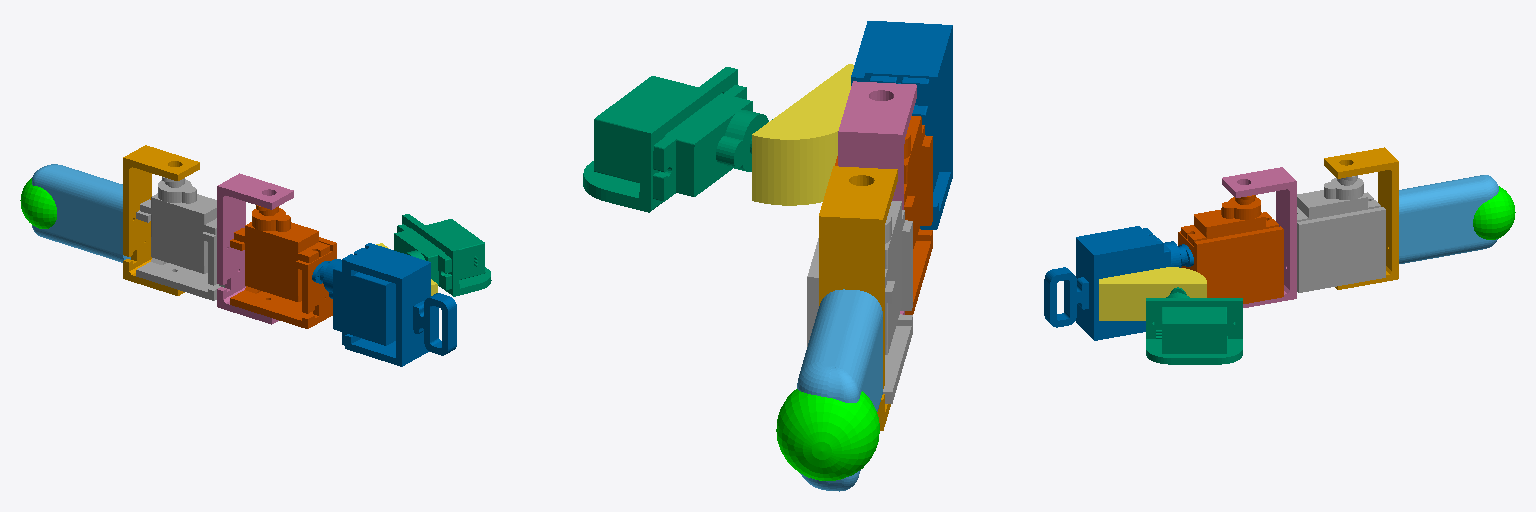
The robot description file, URDF, robot "robot":
<?xml version="1.0"?>
<robot name="">

  <link name="world"/>
  <link name="base_link">
    <!--
    <visual>
      <origin rpy="0 0 0" xyz="0 0 -0.01"/>
      <geometry>
        <cylinder length="0.01" radius="0.05"/>
      </geometry>
    </visual>
    -->
  </link>

  <link name="finger_root">
    <visual>
      <origin rpy="0 0 0" xyz="0 0 0"/>
      <geometry>
        <mesh filename="package://taltosoid_hardware/description/meshes/finger_root.stl" scale="0.001 0.001 0.001"/>
      </geometry>
    </visual>
    <collision>
      <origin rpy="0 0 0" xyz="0 0 0"/>
      <geometry>
        <mesh filename="package://taltosoid_hardware/description/meshes/finger_root.stl" scale="0.001 0.001 0.001"/>
      </geometry>
    </collision>
  </link>

  <link name="base_spacer">
    <visual>
      <origin rpy="-1.57 1.57 0" xyz="0 -0.007 0.0275"/>
      <geometry>
        <mesh filename="package://taltosoid_hardware/description/meshes/base_spacer.stl" scale="0.001 0.001 0.001"/>
      </geometry>
    </visual>
    <collision>
      <origin rpy="0 0 0" xyz="0 0 0"/>
      <geometry>
        <mesh filename="package://taltosoid_hardware/description/meshes/base_spacer.stl" scale="0.001 0.001 0.001"/>
      </geometry>
    </collision>
  </link>

  <link name="rotation_root">
    <visual>
      <origin rpy="0 -1.57 -3.14" xyz="0 0 0.001"/>
      <geometry>
        <mesh filename="package://taltosoid_hardware/description/meshes/rotation_root.stl" scale="0.001 0.001 0.001"/>
      </geometry>
    </visual>
    <collision>
      <origin rpy="0 -1.57 -3.14" xyz="0 0 0.001"/>
      <geometry>
        <mesh filename="package://taltosoid_hardware/description/meshes/rotation_root.stl" scale="0.001 0.001 0.001"/>
      </geometry>
    </collision>
  </link>

  <link name="finger_segment_1">
    <visual>
      <origin rpy="-1.57 0 1.57" xyz="0 0.001 0"/>
      <geometry>
        <mesh filename="package://taltosoid_hardware/description/meshes/finger_segment.stl" scale="0.001 0.001 0.001"/>
      </geometry>
    </visual>
    <collision>
      <origin rpy="-1.57 0 1.57" xyz="0 0.001 0"/>
      <geometry>
        <mesh filename="package://taltosoid_hardware/description/meshes/finger_segment.stl" scale="0.001 0.001 0.001"/>
      </geometry>
    </collision>
  </link>

  <link name="finger_hinge_1">
    <visual>
      <origin rpy="-1.57 0 1.57" xyz="0 0.001 -0.0055"/>
      <geometry>
        <mesh filename="package://taltosoid_hardware/description/meshes/finger_hinge.stl" scale="0.001 0.001 0.001"/>
      </geometry>
    </visual>
    <collision>
      <origin rpy="-1.57 0 1.57" xyz="0 0.001 -0.0055"/>
      <geometry>
        <mesh filename="package://taltosoid_hardware/description/meshes/finger_hinge.stl" scale="0.001 0.001 0.001"/>
      </geometry>
    </collision>
  </link>

  <link name="finger_segment_2">
    <visual>
      <origin rpy="-1.57 0 1.57" xyz="0 0.001 0"/>
      <geometry>
        <mesh filename="package://taltosoid_hardware/description/meshes/finger_segment.stl" scale="0.001 0.001 0.001"/>
      </geometry>
    </visual>
    <collision>
      <origin rpy="-1.57 0 1.57" xyz="0 0.001 0"/>
      <geometry>
        <mesh filename="package://taltosoid_hardware/description/meshes/finger_segment.stl" scale="0.001 0.001 0.001"/>
      </geometry>
    </collision>
  </link>

  <link name="finger_hinge_2">
    <visual>
      <origin rpy="-1.57 0 1.57" xyz="0 0.001 -0.0055"/>
      <geometry>
        <mesh filename="package://taltosoid_hardware/description/meshes/finger_hinge.stl" scale="0.001 0.001 0.001"/>
      </geometry>
    </visual>
    <collision>
      <origin rpy="-1.57 0 1.57" xyz="0 0.001 -0.0055"/>
      <geometry>
        <mesh filename="package://taltosoid_hardware/description/meshes/finger_hinge.stl" scale="0.001 0.001 0.001"/>
      </geometry>
    </collision>
  </link>

  <link name="finger_tip">
    <visual>
      <origin rpy="-1.57 0 1.57" xyz="0 0.001 -0.0055"/>
      <geometry>
        <mesh filename="package://taltosoid_hardware/description/meshes/finger_tip.stl" scale="0.001 0.001 0.001"/>
      </geometry>
    </visual>
    <collision>
      <origin rpy="-1.57 0 1.57" xyz="0 0.001 -0.0055"/>
      <geometry>
        <mesh filename="package://taltosoid_hardware/description/meshes/finger_tip.stl" scale="0.001 0.001 0.001"/>
      </geometry>
    </collision>
  </link>

  <link name="ee_target">
    <visual>
      <origin rpy="0 0 0" xyz="0 0 -0.015"/>
      <geometry>
         <sphere radius="0.01"/>
      </geometry>
      <material name="green">
            <color rgba="0 1 0 0.33"/>
      </material>
    </visual>
  </link>


  <joint name="world_to_base_link" type="fixed">
    <parent link="world"/>
    <child link="base_link"/>
    <origin xyz="0 0 0"/>
  </joint>

  <joint name="base_link_to_finger_root" type="fixed">
    <parent link="base_link"/>
    <child link="finger_root"/>
    <origin xyz="0 0 0"/>
  </joint>

  <joint name="finger_root_to_base_spacer" type="revolute">
    <parent link="finger_root"/>
    <child link="base_spacer"/>

    <axis xyz="1 0 0"/>
    <limit effort="1000.0" lower="-1.57" upper="1.57" velocity="0.5"/>
    <origin rpy="1.57 0 0" xyz="-0.017 -0.00565 -0.00035"/>
  </joint>


  <joint name="base_spacer_to_rotation_root" type="fixed">
    <parent link="base_spacer"/>
    <child link="rotation_root"/>
    <origin rpy="0 0.4 0" xyz="-0.016 0 0.02"/>
  </joint>

  <joint name="rotation_root_to_finger_segment_1" type="revolute">
    <parent link="rotation_root"/>
    <child link="finger_segment_1"/>

    <axis xyz="0 0 1"/>
    <limit effort="1000.0" lower="-1.57" upper="1.57" velocity="0.5"/>
    <origin rpy="0 0 0" xyz="-0.001 0.0055 -0.042"/>
  </joint>

  <joint name="finger_segment_1_to_finger_hinge_1" type="revolute">
    <parent link="finger_segment_1"/>
    <child link="finger_hinge_1"/>

    <axis xyz="0 1 0"/>
    <limit effort="1000.0" lower="-1.57" upper="1.57" velocity="0.5"/>
    <origin rpy="0 0 0" xyz="-0.001 0 -0.0055"/>
  </joint>

  <joint name="finger_hinge_1_to_finger_segment_2" type="fixed">
    <parent link="finger_hinge_1"/>
    <child link="finger_segment_2"/>
    <origin xyz="0 0 -0.0333"/>
  </joint>

  <joint name="finger_segment_2_to_finger_hinge_2" type="revolute">
    <parent link="finger_segment_2"/>
    <child link="finger_hinge_2"/>

    <axis xyz="0 1 0"/>
    <limit effort="1000.0" lower="-1.57" upper="1.57" velocity="0.5"/>
    <origin rpy="0 0 0" xyz="-0.001 0 -0.0055"/>
  </joint>

  <joint name="finger_hinge_2_to_finger_tip" type="fixed">
    <parent link="finger_hinge_2"/>
    <child link="finger_tip"/>
    <origin xyz="0 -0.011 -0.0315"/>
  </joint>

  <joint name="finger_tip_to_ee_target" type="fixed">
    <parent link="finger_tip"/>
    <child link="ee_target"/>
    <origin xyz="0 0.006 -0.006"/>
  </joint>

</robot>

--- Render facts (derived) ---
The picture shows the robot from 3 angles, left to right: view 1: azimuth 30°, elevation 25°; view 2: azimuth 150°, elevation 25°; view 3: azimuth 270°, elevation 25°; orthographic projection.
Robot: robot — 11 links, 10 joints (4 revolute, 6 fixed); root link world; default pose: all joints at 0.
Links seen in each view (by area): view 1: rotation_root, finger_segment_1, finger_segment_2, finger_tip, finger_root, finger_hinge_2, finger_hinge_1, ee_target; view 2: finger_root, rotation_root, finger_hinge_2, base_spacer, finger_tip, ee_target, finger_hinge_1, finger_segment_2, finger_segment_1; view 3: finger_segment_2, finger_segment_1, rotation_root, finger_root, finger_tip, base_spacer, finger_hinge_2, finger_hinge_1, ee_target.
Link boxes in pixels (x1,y1,x2,y2): rotation_root: (312, 243, 456, 366); finger_segment_1: (230, 205, 336, 328); finger_segment_2: (136, 177, 224, 300); finger_tip: (32, 164, 130, 262); finger_root: (394, 214, 491, 296); finger_hinge_2: (123, 145, 199, 295); finger_hinge_1: (217, 173, 293, 324); ee_target: (20, 178, 56, 228); finger_root: (583, 67, 772, 212); rotation_root: (851, 21, 952, 229); finger_hinge_2: (819, 166, 897, 430); base_spacer: (752, 64, 853, 205); finger_tip: (797, 289, 882, 491); ee_target: (776, 389, 879, 480); finger_hinge_1: (838, 81, 916, 314); finger_segment_2: (807, 201, 912, 403); finger_segment_1: (835, 116, 932, 314); finger_segment_2: (1297, 175, 1385, 292); finger_segment_1: (1178, 195, 1283, 303); rotation_root: (1044, 226, 1193, 340); finger_root: (1146, 287, 1242, 364); finger_tip: (1399, 175, 1498, 263); base_spacer: (1099, 267, 1206, 320); finger_hinge_2: (1324, 147, 1398, 289); finger_hinge_1: (1222, 167, 1296, 307); ee_target: (1473, 186, 1515, 239).
Size in the robot's own frame: 0.1167 by 0.1629 by 0.0453 metres.
Meshes: 6 distinct files referenced, 8 mesh visuals loaded (6 binary STL).